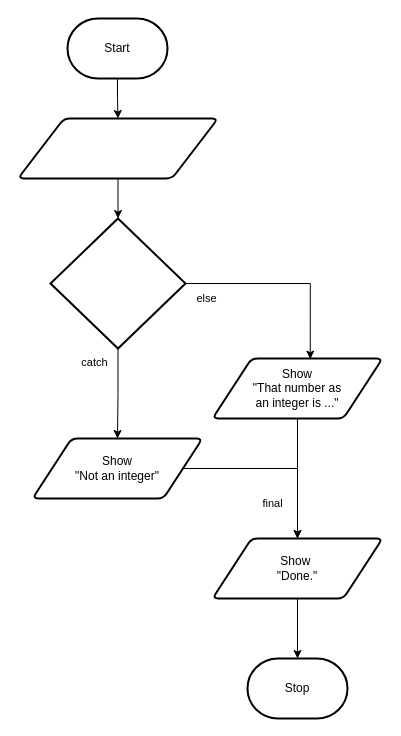
Some shapes in this 401 by 736 pixel diagram are drawn without their labels. Here are the shapes that lost their labels. From the top down, the centre of each, then its label:
At pixel 117 148: "Get user_integer_as_string".
At pixel 117 283: "try convert string to int".
